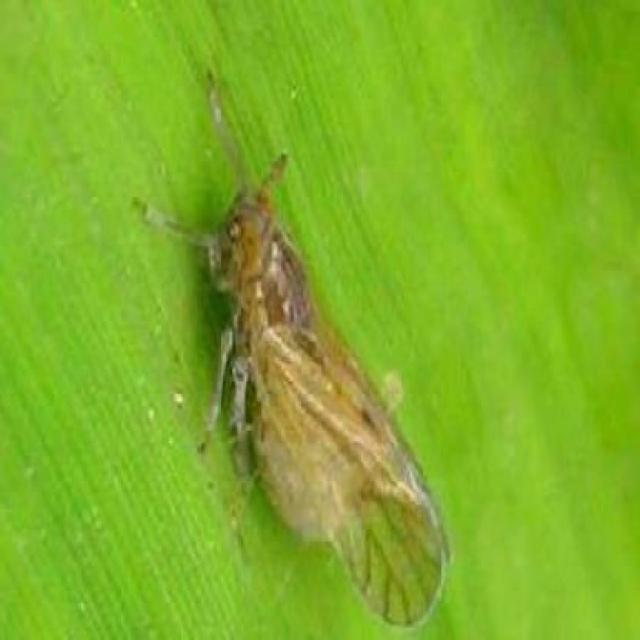brown-planthopper: (195, 166, 452, 631)
